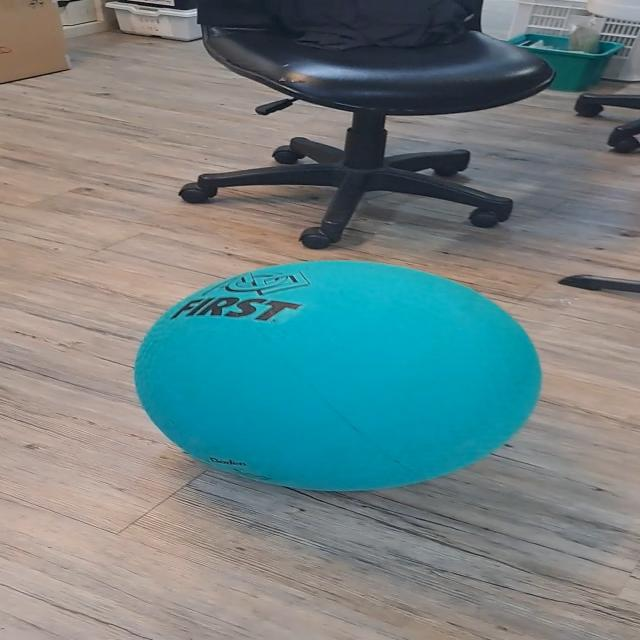ALGAE: (131, 258, 543, 492)
